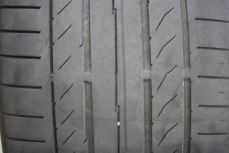bad_condition: (2, 1, 229, 152)
